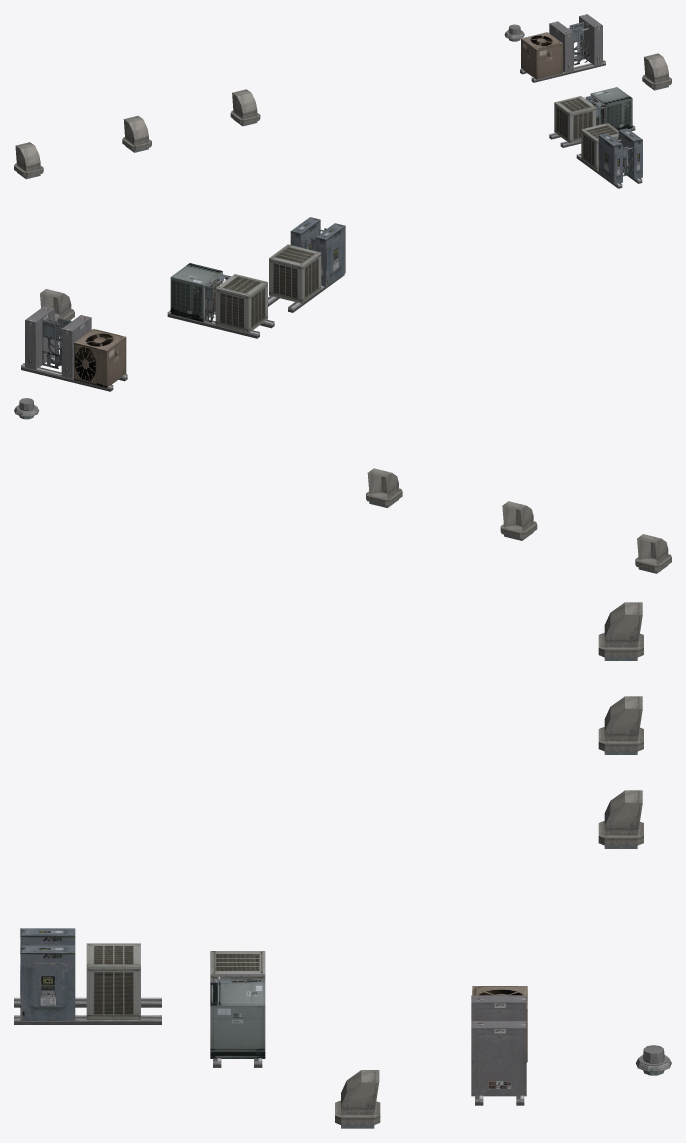
File: wtown_bits2_06.obj
3 views of the same model, one above another, from view 1: azimuth 30°, elevation 25°; view 2: azimuth 150°, elevation 25°; view 3: azimuth 270°, elevation 25° (orthographic). The views are drawn at different scales.
Parts seen in each view (by area): view 1: wtown_bits2_06; view 2: wtown_bits2_06; view 3: wtown_bits2_06.
Part boxes in pixels (x1,y1,x2,y2): wtown_bits2_06: [14, 14, 671, 188]; wtown_bits2_06: [14, 217, 671, 573]; wtown_bits2_06: [14, 602, 671, 1128].
Size of the model in its own units: 29.61 by 2.45 by 16.5.
47 materials, 45 textured.
